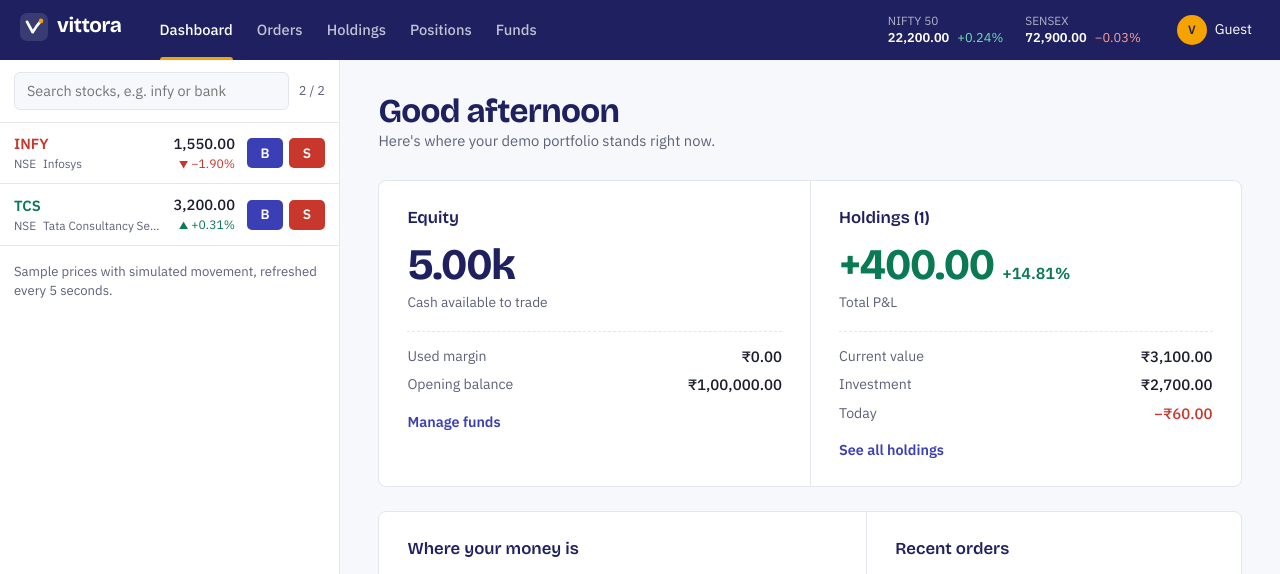
Test: watchlist search filters by symbol or company name
Check: the text "INFY" is shown, box [14, 134, 49, 153]
Type "tata" into the search field labelled "Search stocks" at (151, 91), box [14, 72, 289, 110]
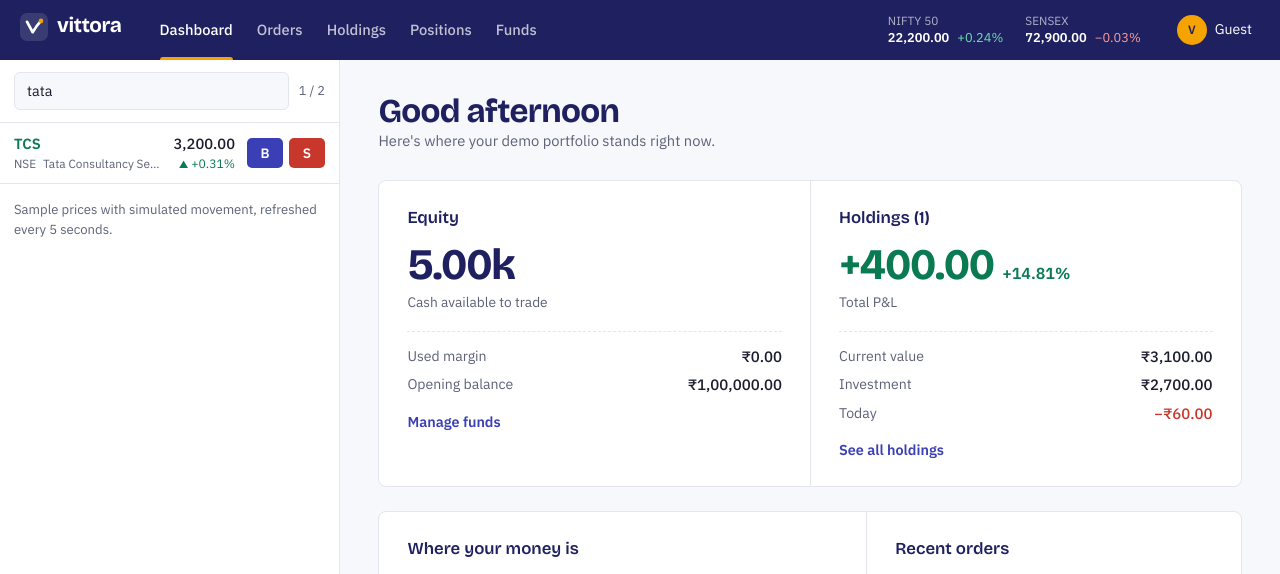
Check: the text "TCS" is shown, box [14, 134, 41, 153]
Check: the text "INFY" is gone
